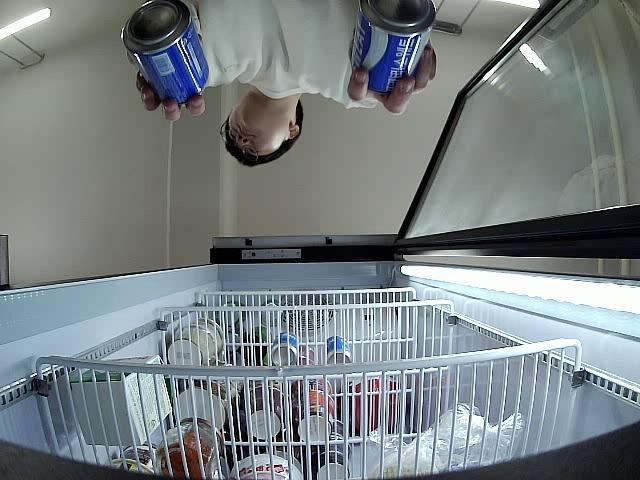13_pocariSweat: (120, 0, 211, 106), (349, 0, 437, 96)
